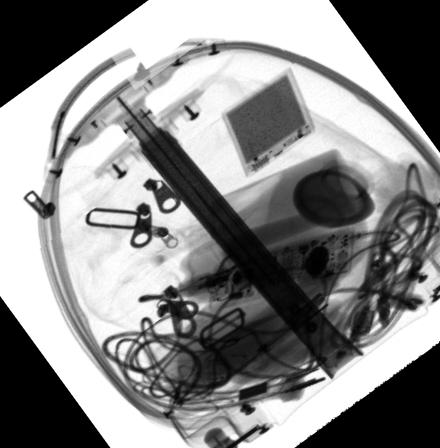Powerbank: (222, 67, 316, 177)
